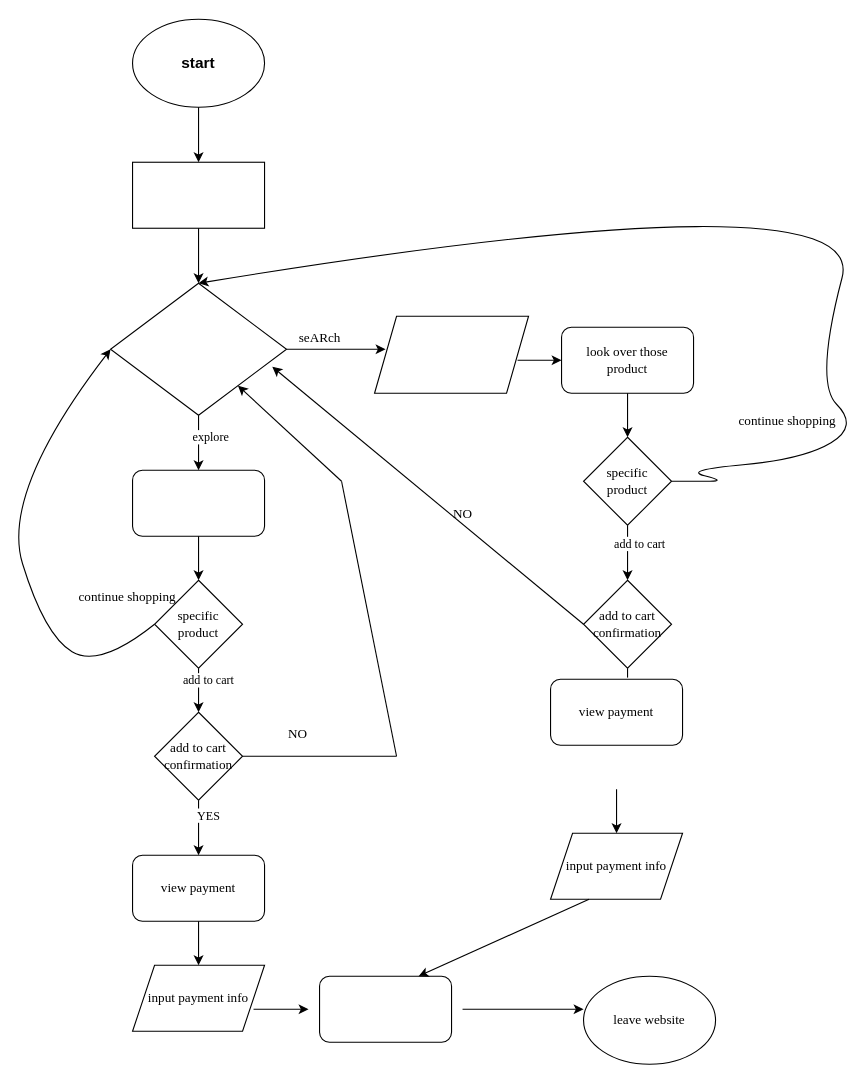
Image size: 867x1084. Some labels were removed from this diagram. The centre of each missing label's shape, as x and y in pixels:
"enter the website" goes at pixel 198 194.
"input name of product" goes at pixel 451 354.
"look over those products" goes at pixel 198 502.
"order confirmation" goes at pixel 385 1008.
"Search for product or explore home page" goes at pixel 198 348.
